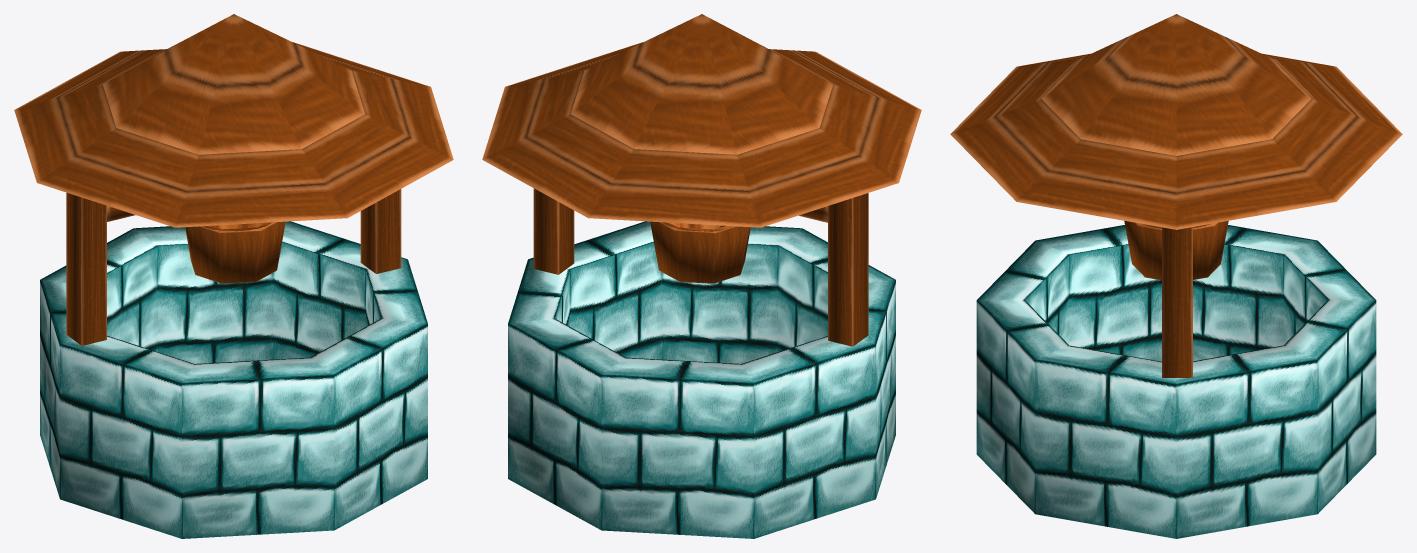
File: Pozzo1.glb
3 views of the same model, side by side, from view 1: azimuth 30°, elevation 25°; view 2: azimuth 150°, elevation 25°; view 3: azimuth 270°, elevation 25° (orthographic).
Parts seen in each view (by area): view 1: Pozzo; view 2: Pozzo; view 3: Pozzo.
Boxes of the visible parts, x1,y1,x2,y2 form: Pozzo: (14,14,453,538); Pozzo: (482,14,921,538); Pozzo: (950,14,1402,538).
Bounding box in the file's own units: 4.51 × 4.84 × 4.51.
1 material, 1 textured.
